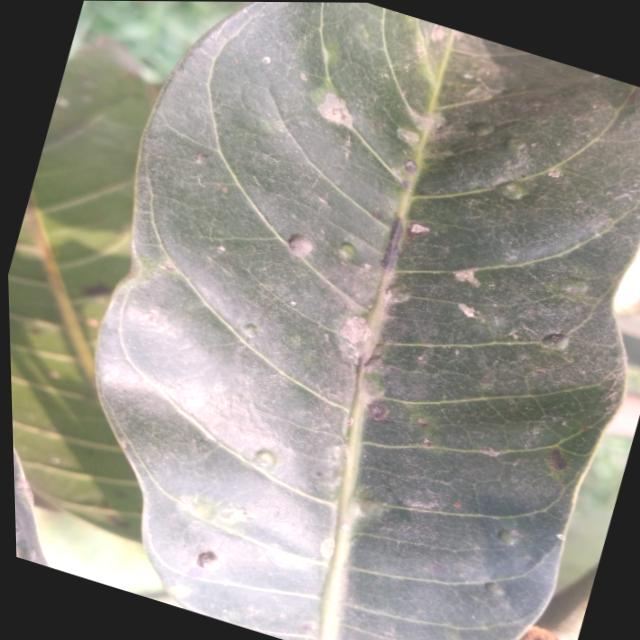Powdery Mildew: (332, 304, 387, 359), (309, 90, 364, 132), (457, 297, 483, 324)
gall midge: (273, 224, 326, 263), (192, 541, 235, 577), (248, 444, 290, 475)
